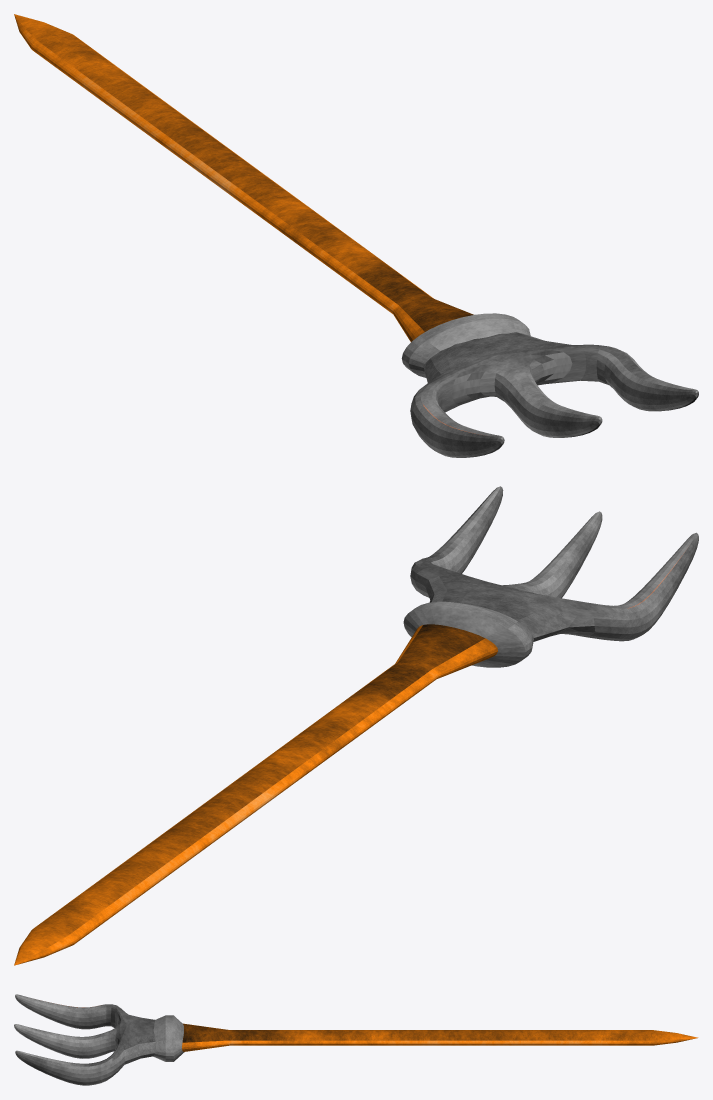
File: pitchfork.obj
The picture shows the model from 3 angles, top to bottom: view 1: azimuth 30°, elevation 25°; view 2: azimuth 150°, elevation 25°; view 3: azimuth 270°, elevation 25°; orthographic projection. The views are drawn at different scales.
Visible parts, largest first — view 1: pitchfork_Cylinder.001; view 2: pitchfork_Cylinder.001; view 3: pitchfork_Cylinder.001.
Part boxes in pixels (<box>): pitchfork_Cylinder.001: <box>14,14,698,457</box>; pitchfork_Cylinder.001: <box>14,486,698,965</box>; pitchfork_Cylinder.001: <box>14,994,698,1085</box>.
Bounding box in the file's own units: 3.11 × 0.8159 × 14.19.
1 material, 1 textured.
